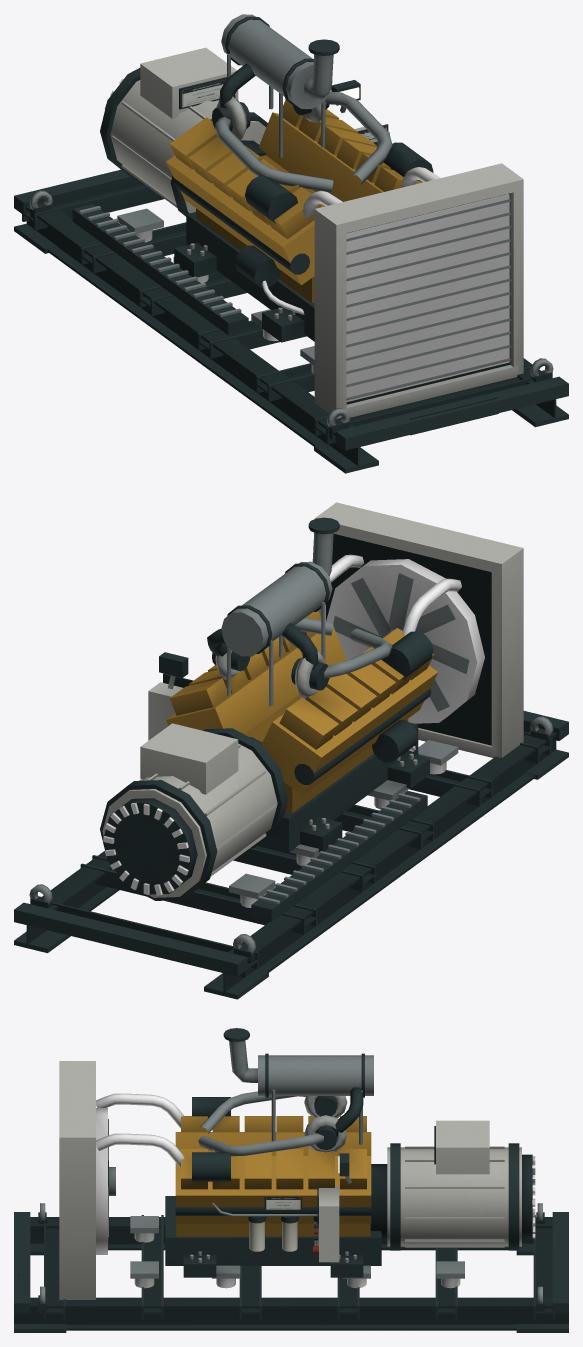
Rendered from genset_single_lodM.glb.
3 views of the same model, one above another, from view 1: azimuth 30°, elevation 25°; view 2: azimuth 150°, elevation 25°; view 3: azimuth 270°, elevation 25° (orthographic). The views are drawn at different scales.
Visible parts, largest first — view 1: skid_dark, radiator_rubber, engine_castings_yellow, radiator_ivory, alternator_ivory, radiator_steel, engine_castings_dark, exhaust_steel, cable_tray_dark, turbochargers_and_intake_steel, turbochargers_and_intake_dark, alternator_dark (+9 smaller); view 2: skid_dark, engine_castings_yellow, radiator_ivory, alternator_ivory, alternator_dark, radiator_rubber, engine_castings_dark, radiator_dark, exhaust_steel, cable_tray_dark, radiator_steel, turbochargers_and_intake_dark (+11 smaller); view 3: skid_dark, engine_castings_yellow, alternator_ivory, radiator_ivory, engine_castings_dark, exhaust_steel, alternator_dark, turbochargers_and_intake_dark, turbochargers_and_intake_steel, coolant_pipework_rubber, isolation_mounts_steel, radiator_rubber (+9 smaller).
Part boxes in pixels (bbox=[...]): skid_dark: bbox=[14, 169, 568, 473]; radiator_rubber: bbox=[346, 194, 509, 401]; engine_castings_yellow: bbox=[166, 100, 423, 302]; radiator_ivory: bbox=[314, 163, 523, 418]; alternator_ivory: bbox=[110, 47, 266, 213]; radiator_steel: bbox=[346, 199, 510, 400]; engine_castings_dark: bbox=[173, 178, 314, 342]; exhaust_steel: bbox=[221, 14, 333, 157]; cable_tray_dark: bbox=[72, 204, 248, 335]; turbochargers_and_intake_steel: bbox=[215, 91, 392, 192]; turbochargers_and_intake_dark: bbox=[212, 102, 433, 223]; alternator_dark: bbox=[100, 59, 267, 216]; skid_dark: bbox=[14, 711, 568, 999]; engine_castings_yellow: bbox=[166, 610, 438, 813]; radiator_ivory: bbox=[314, 502, 523, 757]; alternator_ivory: bbox=[102, 723, 277, 897]; alternator_dark: bbox=[100, 728, 287, 900]; radiator_rubber: bbox=[326, 559, 484, 723]; engine_castings_dark: bbox=[258, 688, 431, 852]; radiator_dark: bbox=[326, 534, 491, 745]; exhaust_steel: bbox=[221, 532, 333, 706]; cable_tray_dark: bbox=[251, 790, 427, 921]; radiator_steel: bbox=[333, 572, 469, 711]; turbochargers_and_intake_dark: bbox=[212, 631, 433, 690]; skid_dark: bbox=[14, 1212, 568, 1332]; engine_castings_yellow: bbox=[175, 1116, 371, 1236]; alternator_ivory: bbox=[387, 1120, 521, 1247]; radiator_ivory: bbox=[59, 1061, 95, 1299]; engine_castings_dark: bbox=[165, 1196, 381, 1277]; exhaust_steel: bbox=[229, 1040, 373, 1144]; alternator_dark: bbox=[390, 1126, 532, 1250]; turbochargers_and_intake_dark: bbox=[192, 1096, 337, 1181]; turbochargers_and_intake_steel: bbox=[198, 1091, 323, 1156]; coolant_pipework_rubber: bbox=[96, 1093, 184, 1168]; isolation_mounts_steel: bbox=[130, 1216, 464, 1278]; radiator_rubber: bbox=[96, 1108, 107, 1254].
Bounding box in the file's own units: 2.68 × 3.43 × 6.8.
11 materials, 11 textured.
